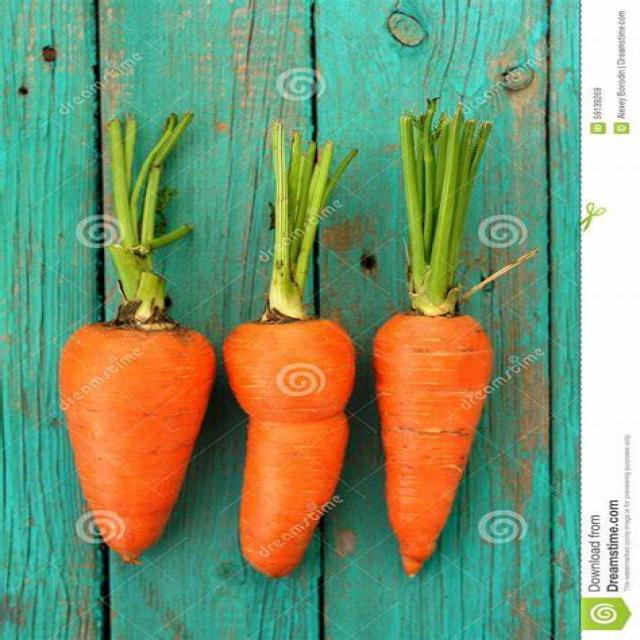Carrot: (55, 115, 207, 568), (382, 113, 517, 578), (227, 124, 358, 584)
